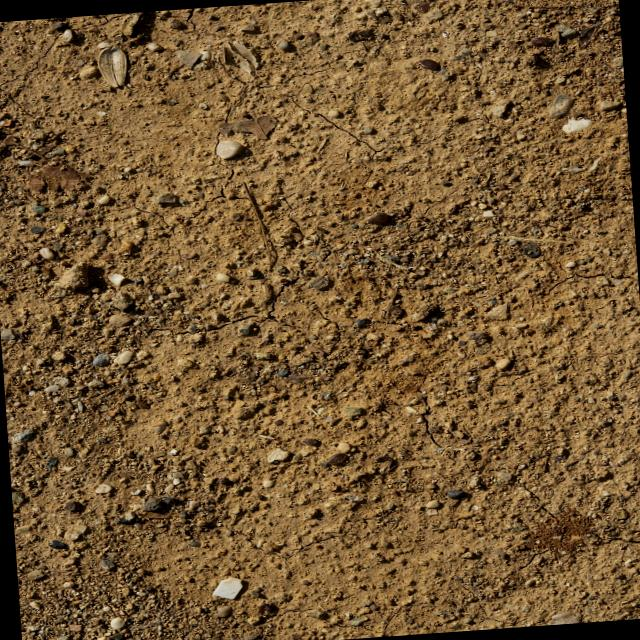suelo_seco: (200, 187, 506, 510)
